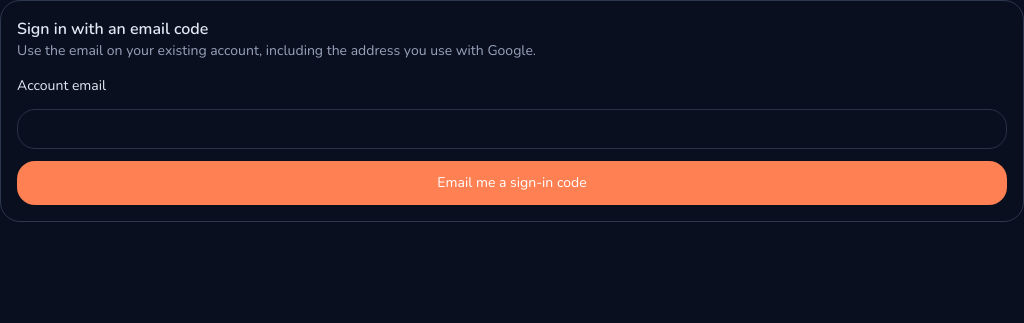
Test case: Email code sign-in › prevents immediate resends and verifies the code against the original address
Later steps or results of the test are not shown.
In the field with id "code-email": [512, 129] box top-left (17, 109), bottom-right (1007, 149), type "existing@example.test"
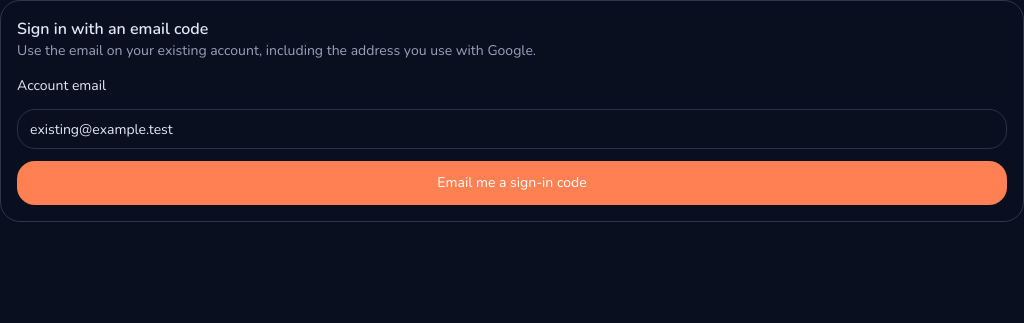
Submit the form, box top-left (17, 73), bottom-right (1007, 205)
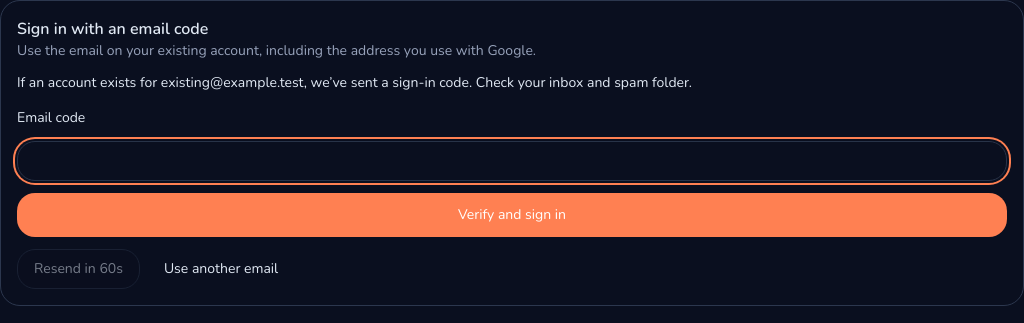
Now the button "Resend in 60s" is disabled, box top-left (17, 249), bottom-right (140, 289)
